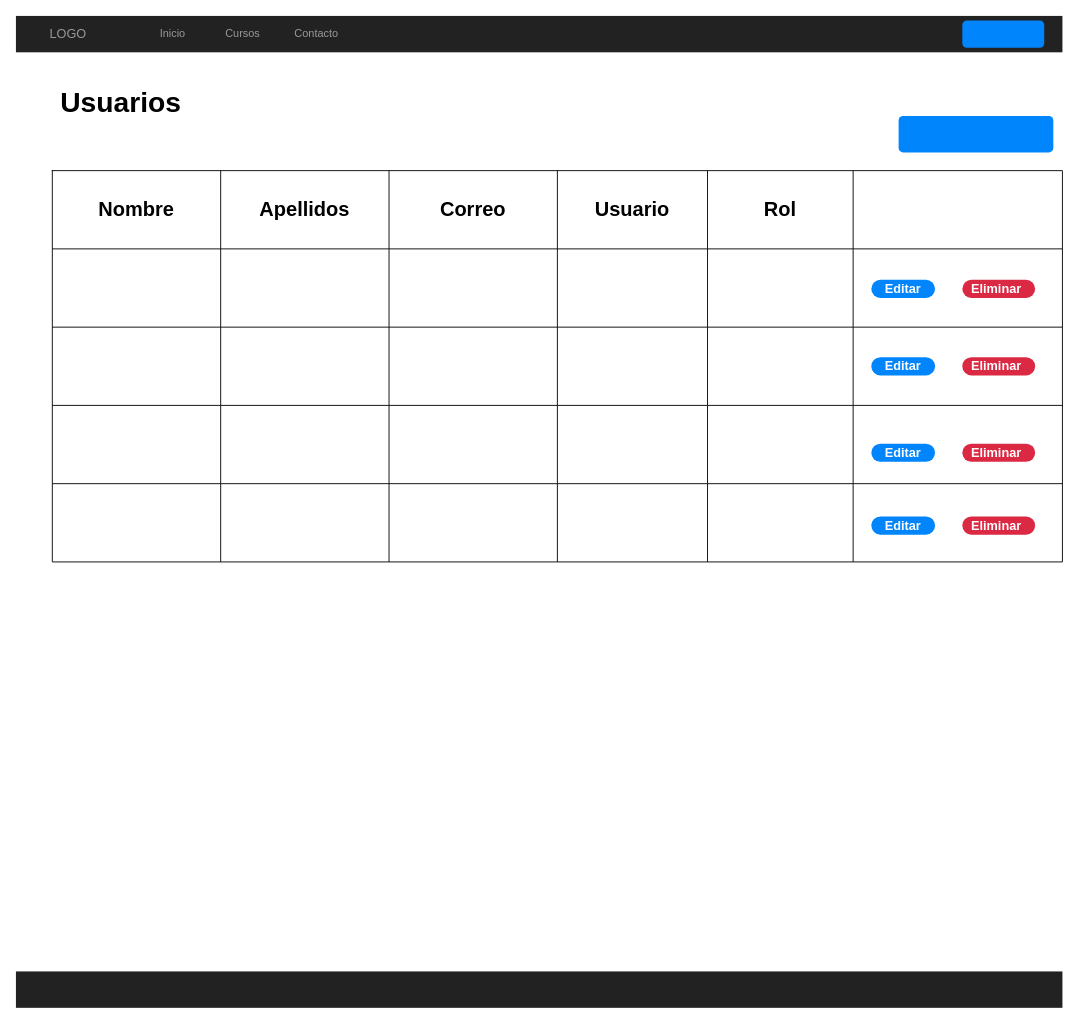
The diagram is 1078 pixels wide and 1023 high, and some of its shapes have lost their labels. The centre of each missing label's shape, as x and y in pixels:
FOOTER: the point at 538,989
Login: the point at 1003,33
Nuevo Usuario: the point at 975,134
